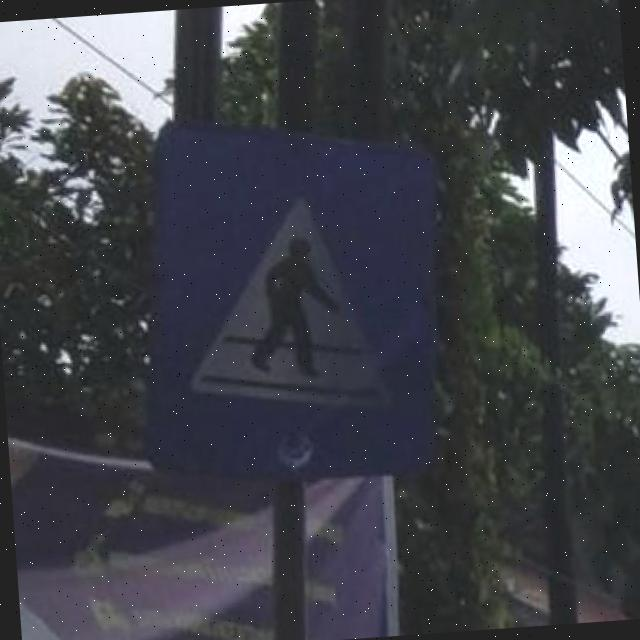Przejscie dla pieszych: (160, 102, 434, 484)
